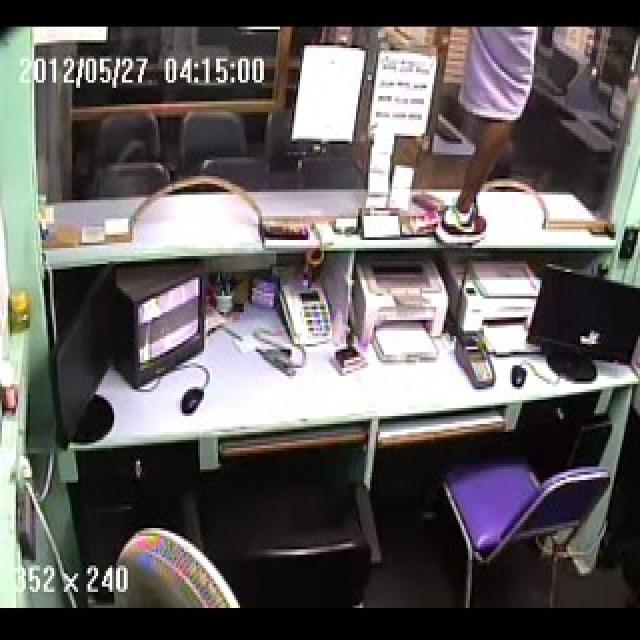thief: (442, 28, 548, 255)
